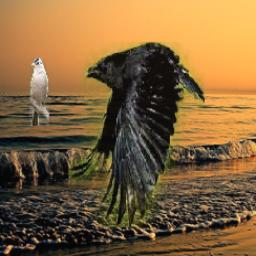Crow: (68, 42, 205, 227)
Sparrow: (30, 57, 50, 126)
